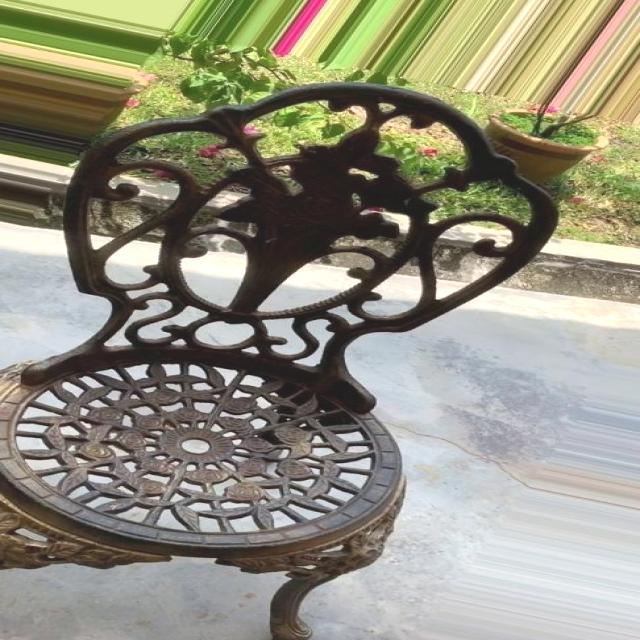Chair: (4, 82, 563, 640)
